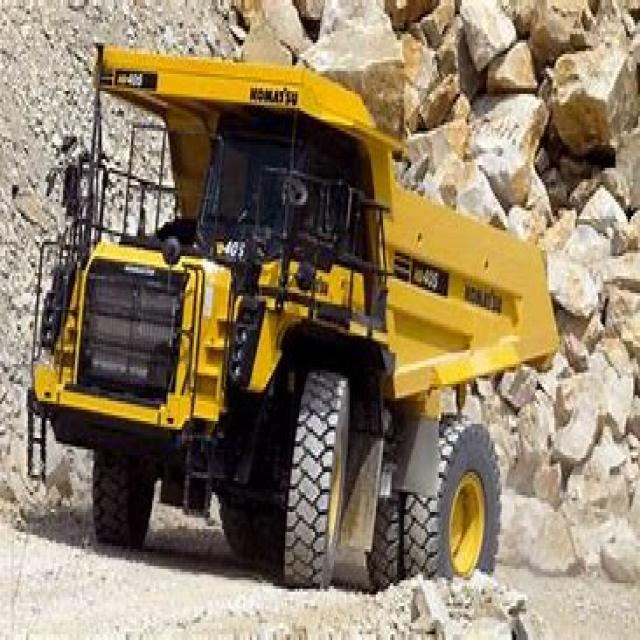dump_truck: (28, 37, 556, 583)
